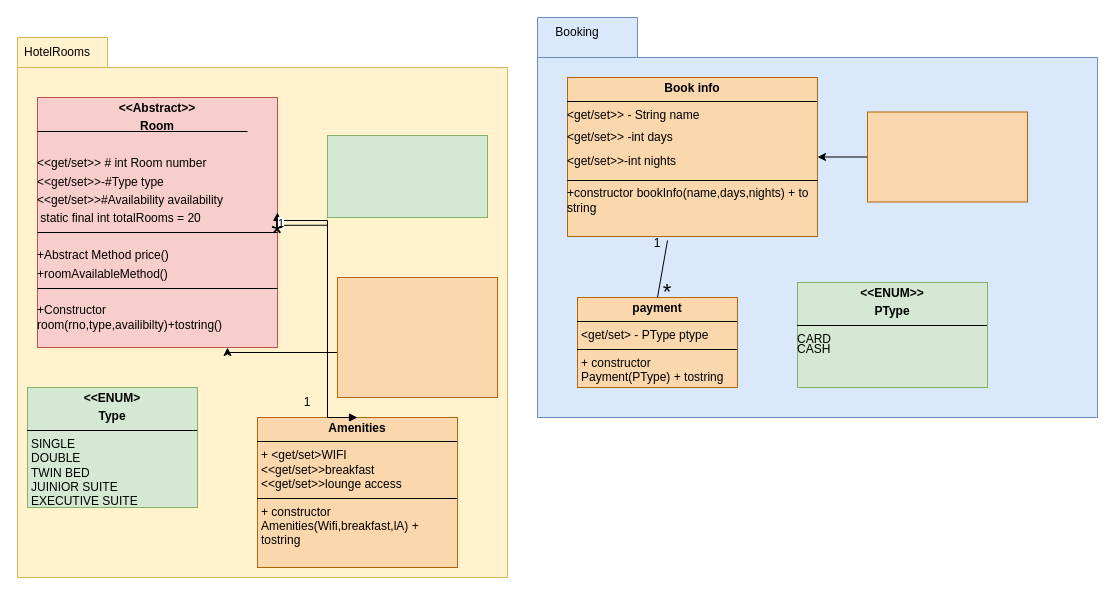
The diagram is 1115 pixels wide and 595 high, and some of its shapes have lost their labels. Here are the shapes that lost their labels. From the top down, the centre of each, then its label:
the point at 407,176: <<ENUM>> Availability VACANT OCCUPIED
the point at 947,156: personal <<get/set>> - string userId + constructor Personal(userId) +toString
the point at 417,337: roomBook super + abstract price() +constructor super() + tostring()
